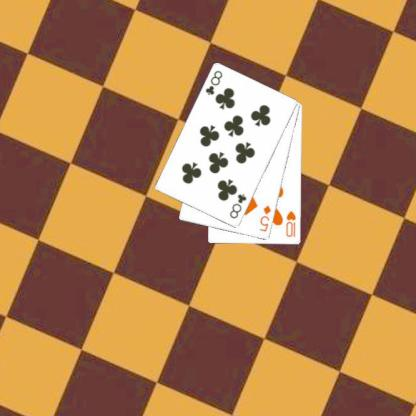10H: (284, 208, 297, 239)
5D: (257, 202, 272, 233)
8C: (227, 191, 248, 221), (202, 68, 223, 97)
